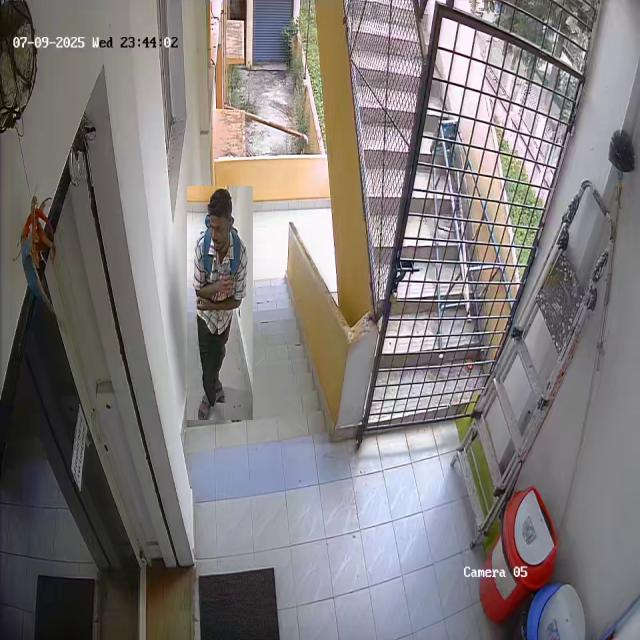person: (187, 186, 253, 420)
